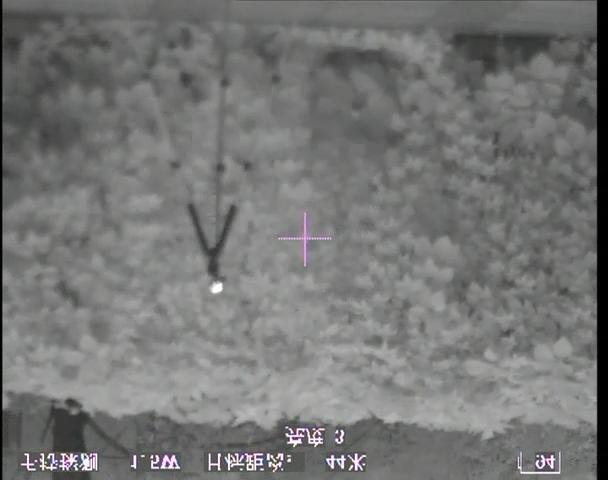my: (209, 280, 222, 294)
